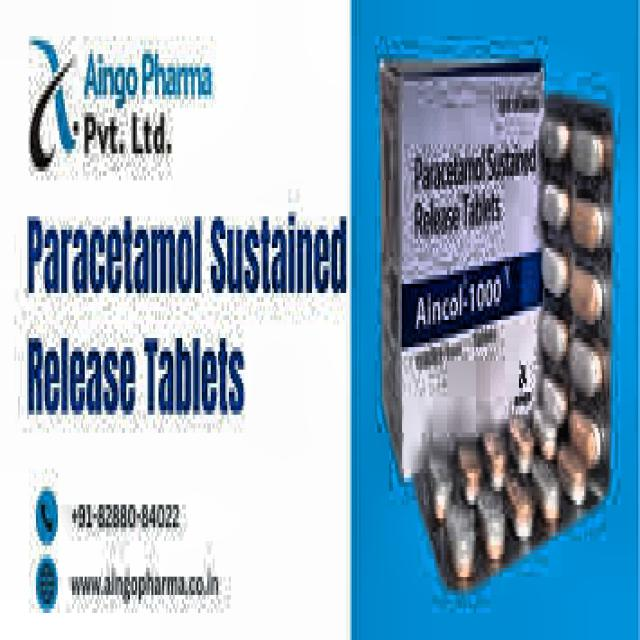Paracetamol: (22, 175, 204, 322)
